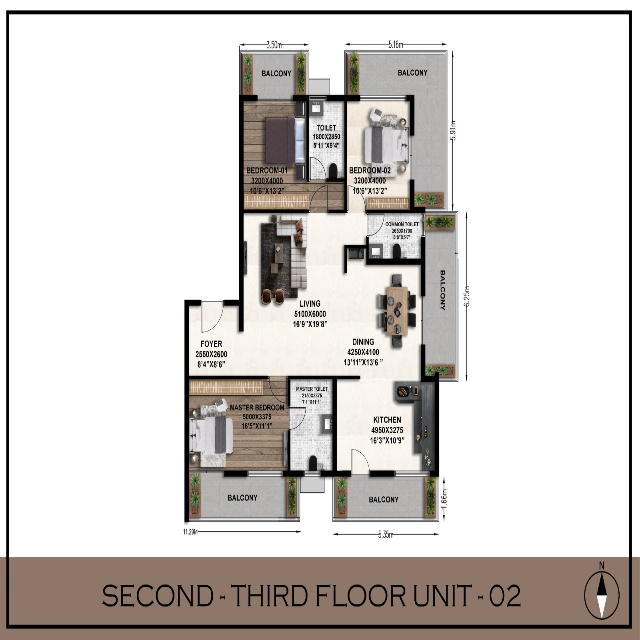door: (199, 301, 225, 335), (268, 376, 289, 404), (347, 184, 367, 213), (350, 447, 371, 474), (309, 186, 329, 213), (288, 406, 307, 433), (308, 155, 327, 181), (367, 213, 385, 237)
